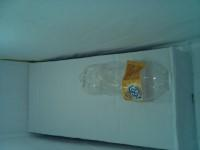bottle: (82, 59, 164, 102)
